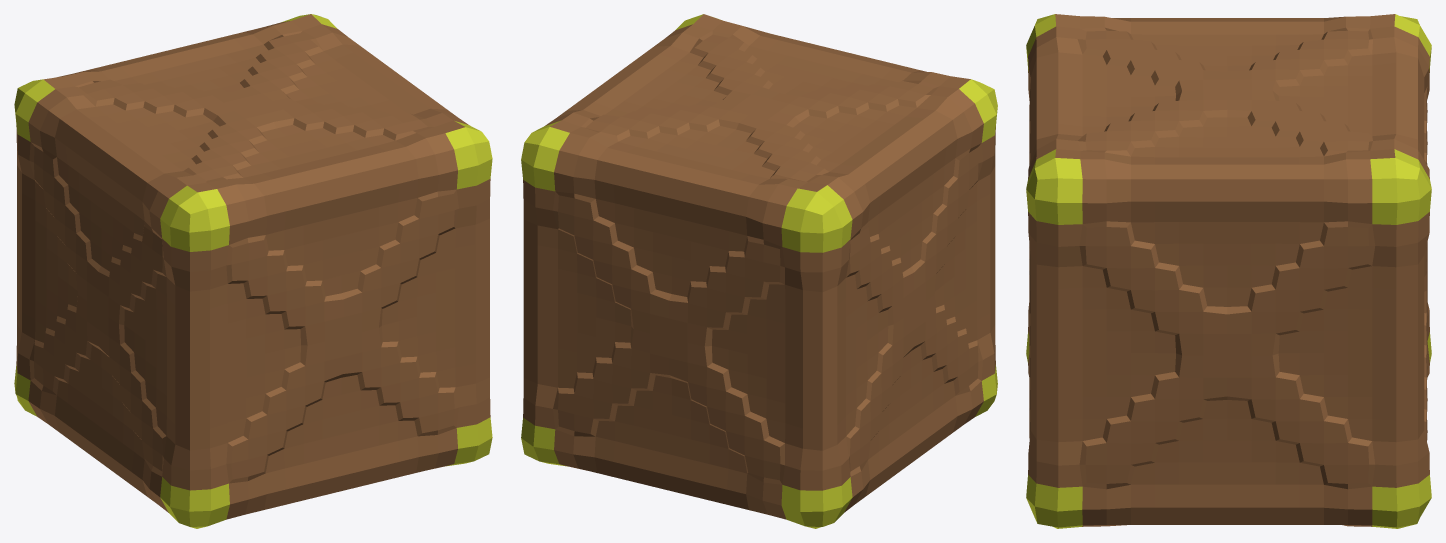
File: Crate.fbx
3 renders of one model, left to right at view 1: azimuth 30°, elevation 25°; view 2: azimuth 150°, elevation 25°; view 3: azimuth 270°, elevation 25°, orthographic. The views are drawn at different scales.
Parts seen in each view (by area): view 1: Cube; view 2: Cube; view 3: Cube.
Boxes of the visible parts, x1,y1,x2,y2 form: Cube: (14,14,492,528); Cube: (521,14,997,528); Cube: (1026,14,1431,528).
Bounding box in the file's own units: 86.64 × 87.14 × 86.32.
